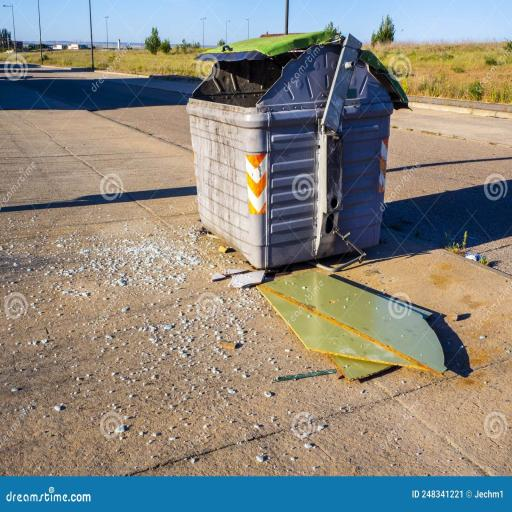Contenedor_Vacio: (187, 32, 408, 269)
